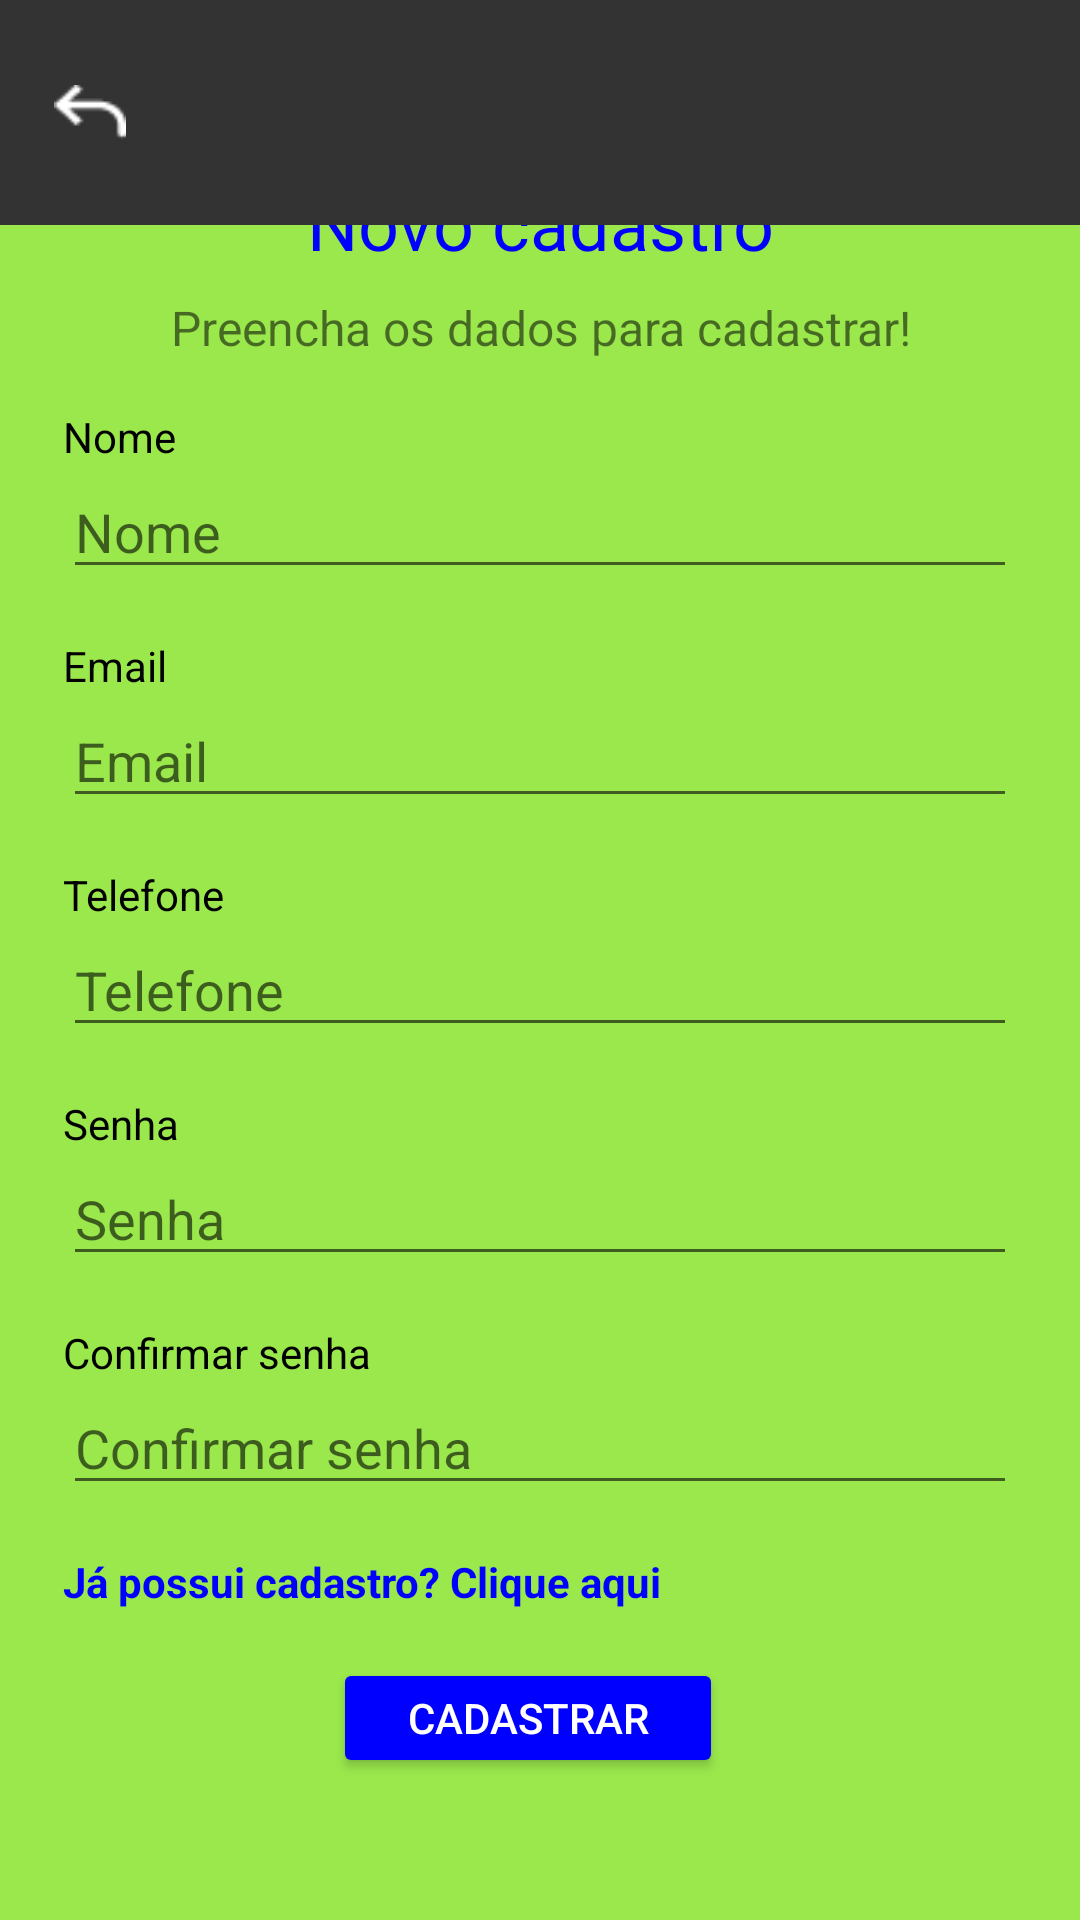

Where icons sit on this 1080w x 1920h app screen, as {"x1": x1, "y1": y1, "x2": x2, "y2": y2}:
Icone de voltar: {"x1": 54, "y1": 85, "x2": 126, "y2": 138}
